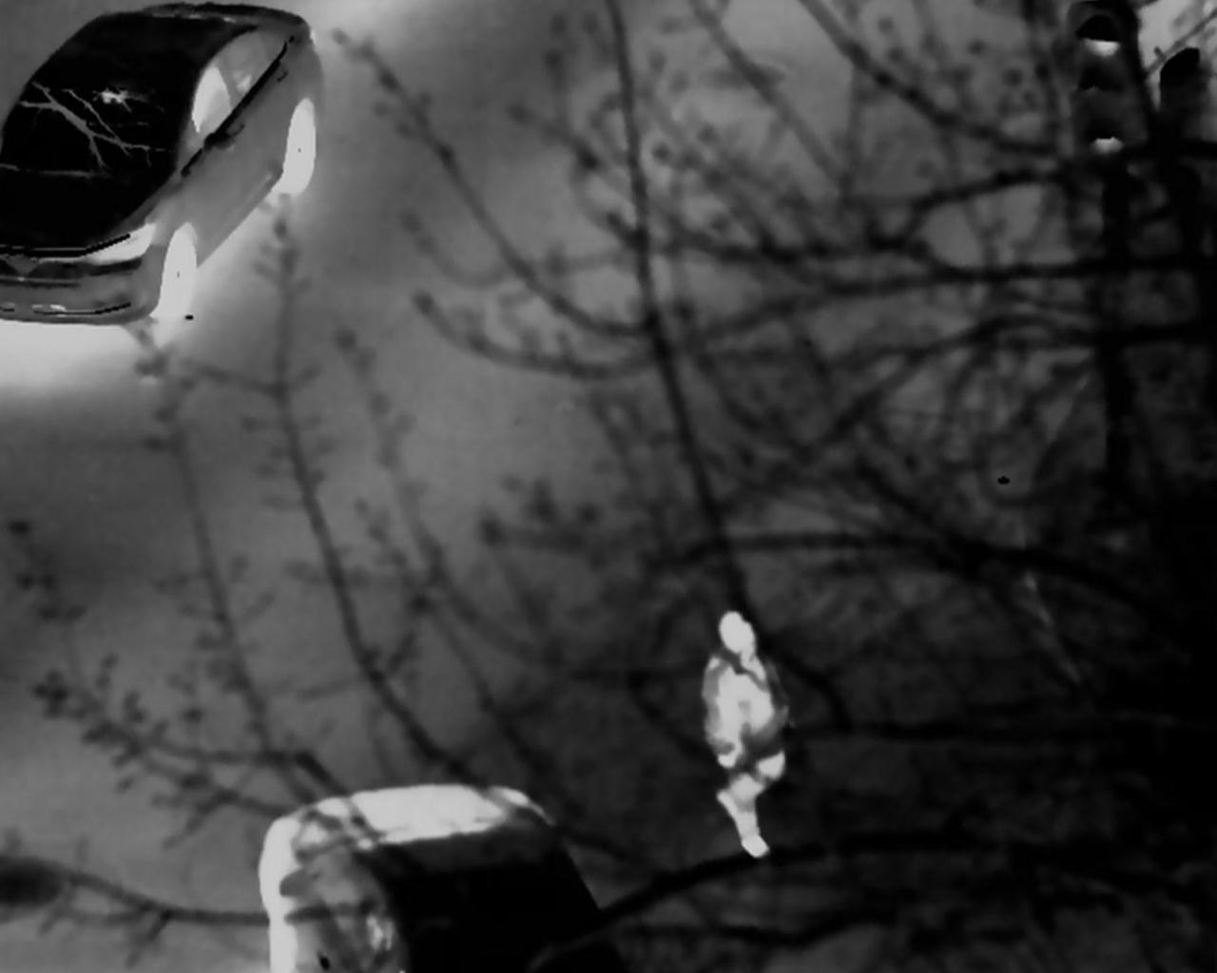person: (705, 615, 787, 853)
